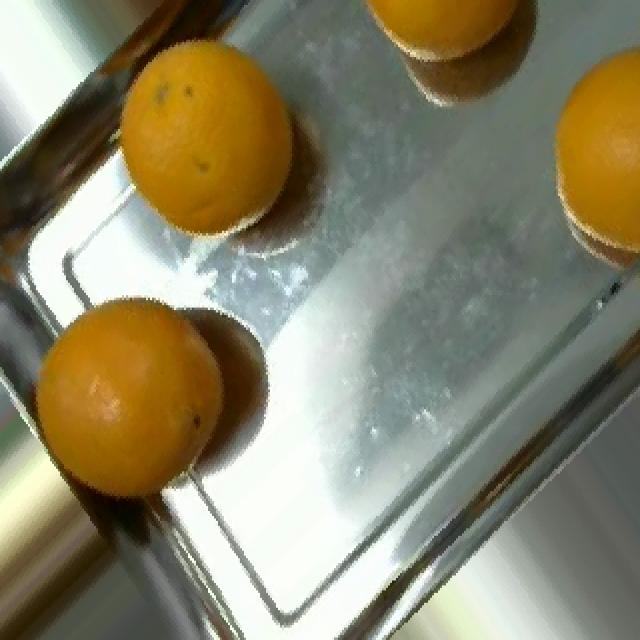Fruit: (346, 0, 554, 131)
